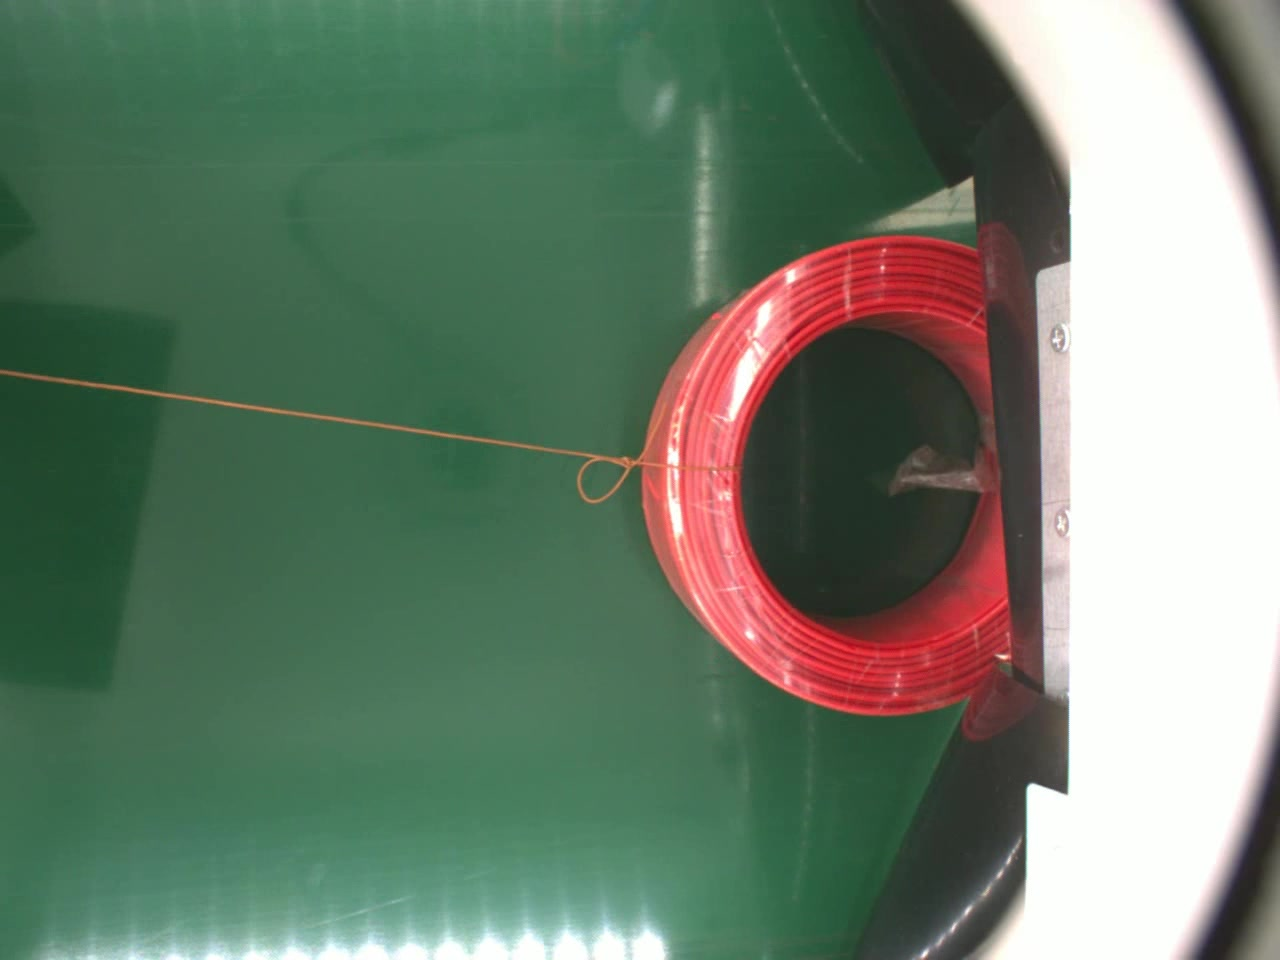red: (638, 228, 1008, 712)
